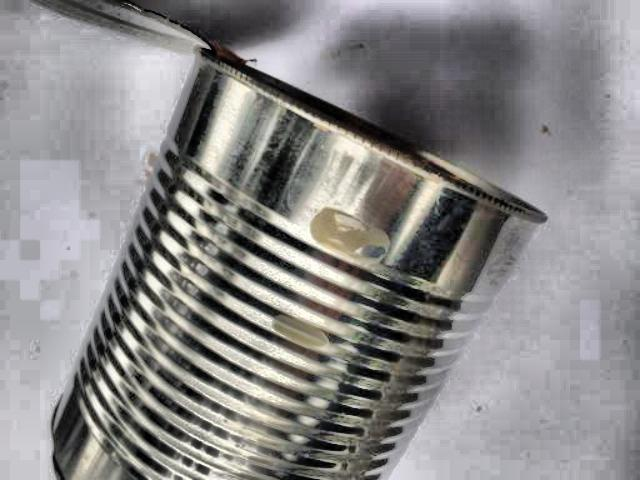Almennt: (26, 0, 544, 480)
